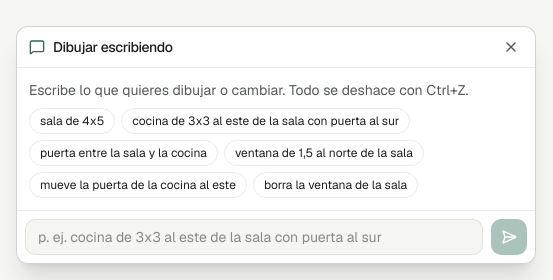
Test case: chat del estudio › sin IA disponible explica y muestra ejemplos
The image size is (553, 280).
Step 1. Type "hazlo bonito" into the field named "Mensaje para el plano" → [254, 237], box [25, 219, 483, 255]
Then press Enter
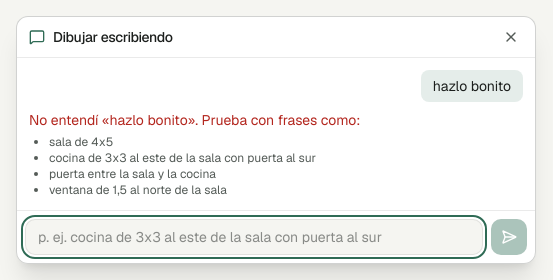
Expected: the list item "sala de 4x5" is shown, [49, 134, 113, 150]
Result: the list item "No entendí «hazlo bonito»" is shown at [29, 111, 360, 129]
